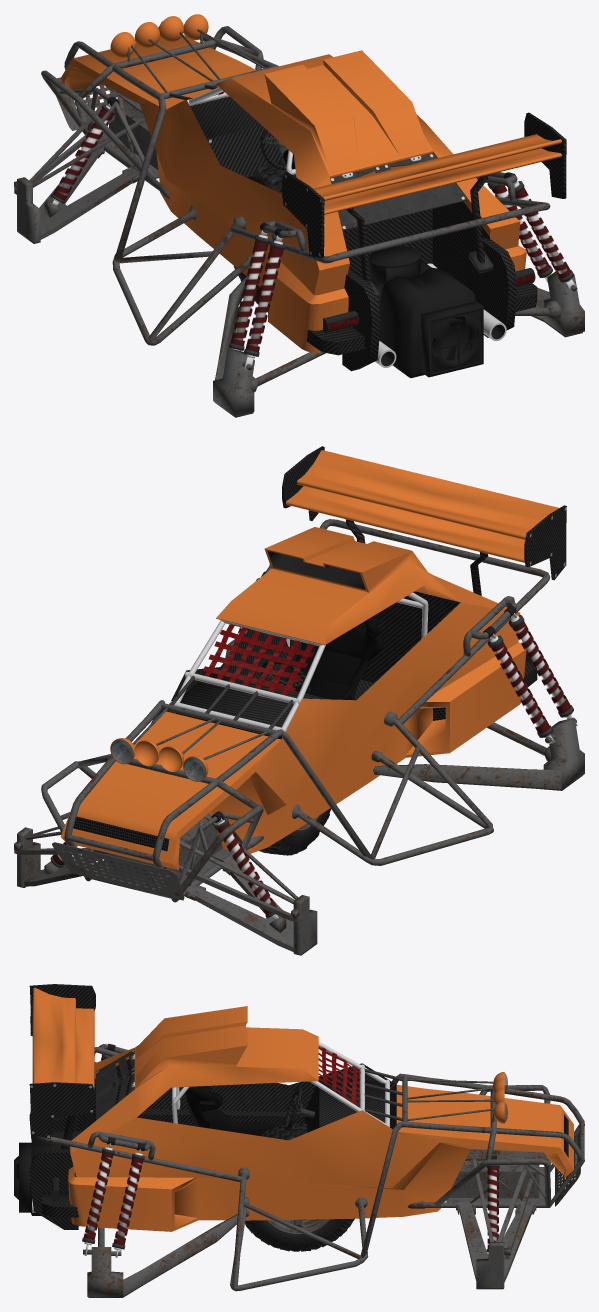
File: rock-buggy.glb
The picture shows the model from 3 angles, top to bottom: view 1: azimuth 30°, elevation 25°; view 2: azimuth 150°, elevation 25°; view 3: azimuth 270°, elevation 25°; orthographic projection. The views are drawn at different scales.
Visible parts, largest first — view 1: Body, Wheel_RL; view 2: Body, Wheel_RL; view 3: Body, Wheel_RR, Wheel_RL, Steering.
Part boxes in pixels (<box>): Body: <box>14,14,584,417</box>; Wheel_RL: <box>240,160,296,304</box>; Body: <box>14,446,584,955</box>; Wheel_RL: <box>260,809,329,855</box>; Body: <box>14,984,584,1297</box>; Wheel_RR: <box>245,1123,351,1251</box>; Wheel_RL: <box>245,1123,354,1251</box>; Steering: <box>284,1087,302,1131</box>.
Size of the model in its own units: 2.33 by 1.68 by 3.96.
Materials: 21 (14 with a texture image).
